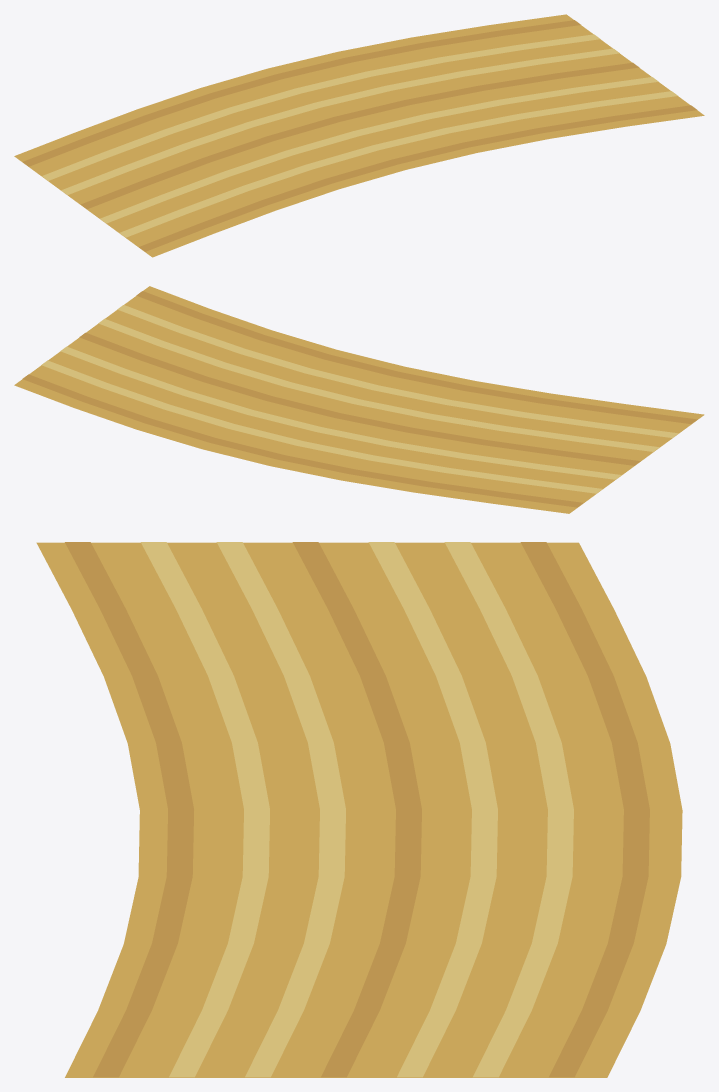
File: Parcelle_6.fbx
The picture shows the model from 3 angles, top to bottom: view 1: azimuth 30°, elevation 25°; view 2: azimuth 150°, elevation 25°; view 3: azimuth 270°, elevation 25°; orthographic projection. The views are drawn at different scales.
Parts seen in each view (by area): view 1: Parcelle_6; view 2: Parcelle_6; view 3: Parcelle_6.
Part boxes in pixels (box(x1,y1,x2,y2)): Parcelle_6: box(14, 14, 704, 257); Parcelle_6: box(14, 286, 704, 513); Parcelle_6: box(36, 542, 682, 1077).
Bounding box in the file's own units: 2800 × 1.7 × 1429.
1 material, 1 textured.
